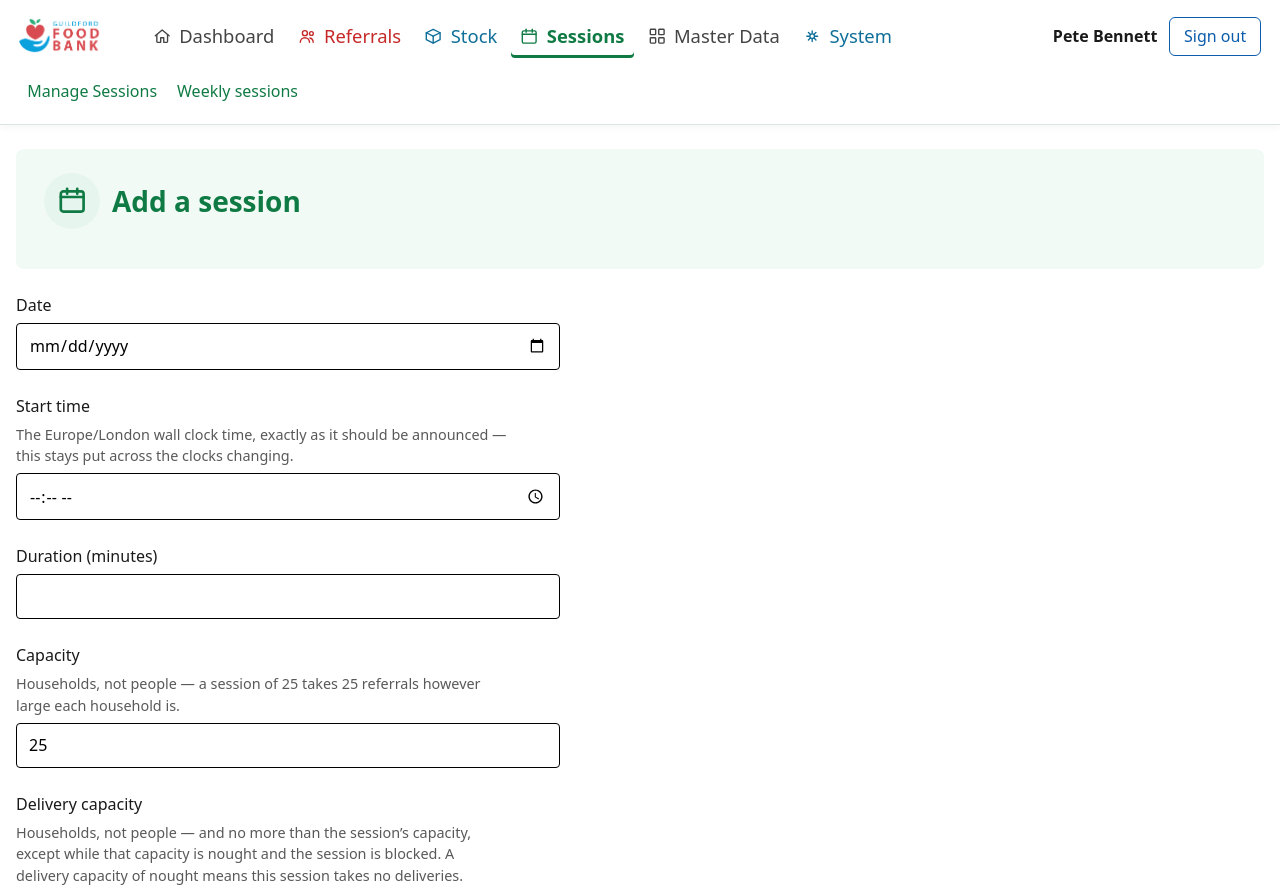
Test: adding an ad hoc session › announces a location refusal instead of storing it against the hidden field
Type "2026-08-04" into the date field labelled "Date".
click(288, 346); type("2026-08-04")  # box [16, 323, 560, 370]
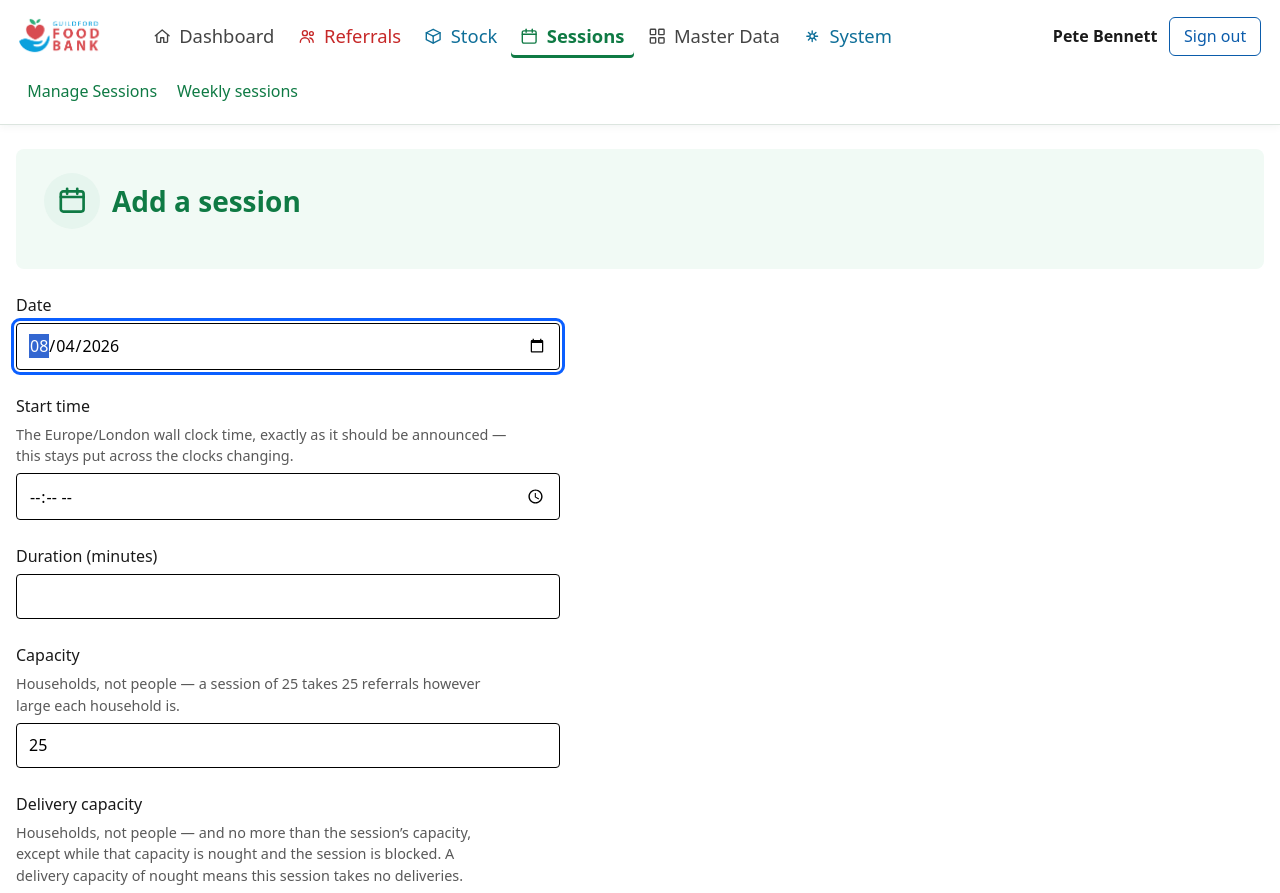
Type "10:00" into the time field labelled "Start time".
click(288, 497); type("10:00")  # box [16, 473, 560, 520]
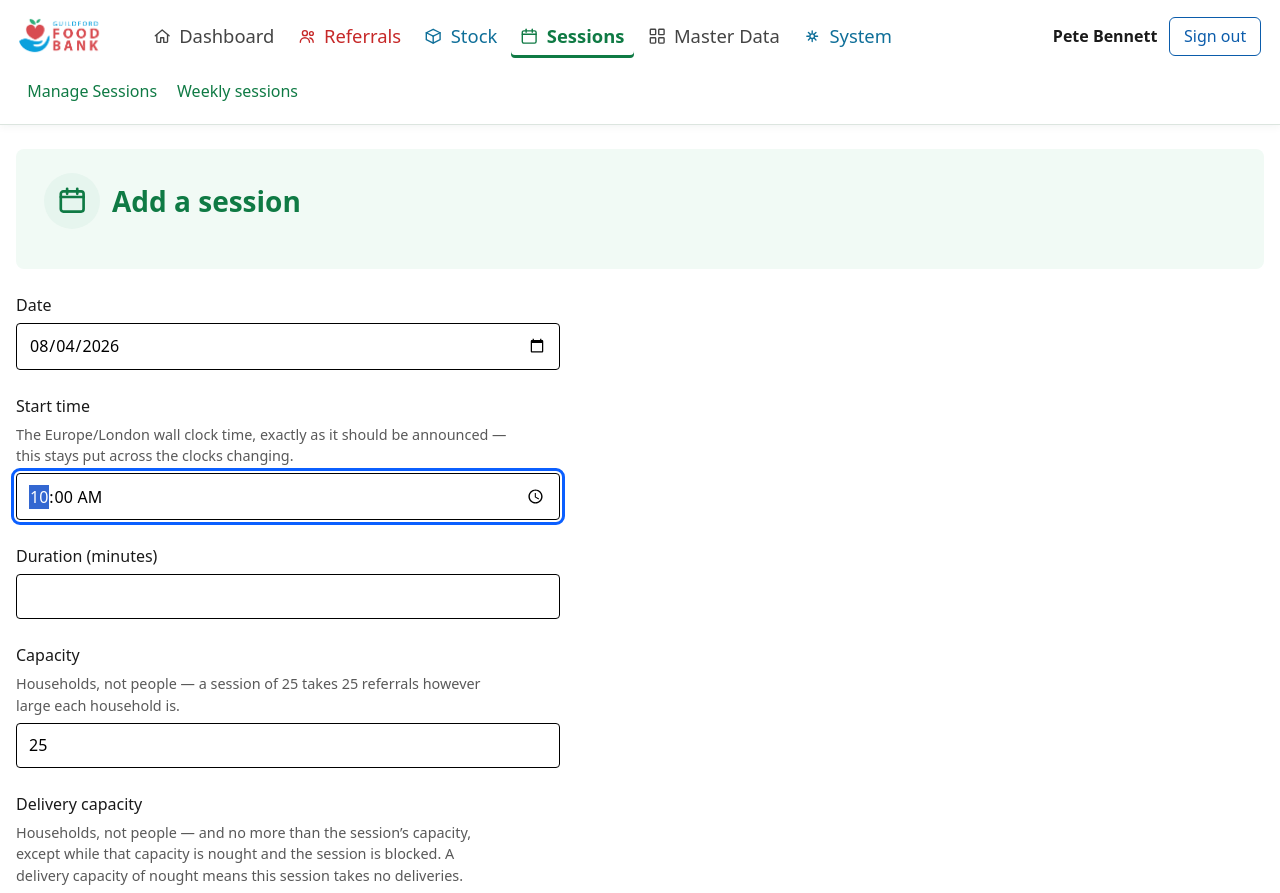
Type "90" into the field labelled "Duration (minutes)".
click(288, 597); type("90")  # box [16, 574, 560, 619]
(page scrolled)
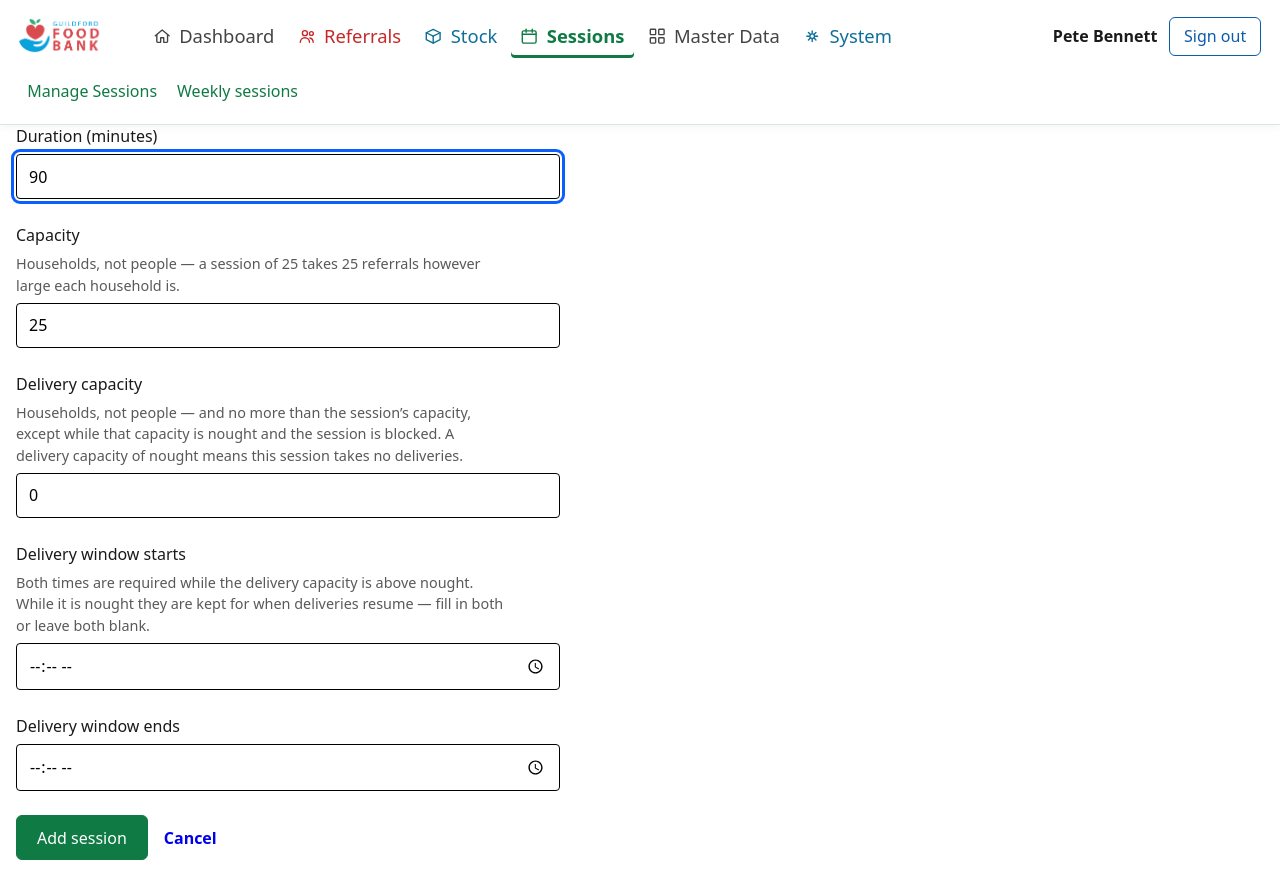
Click the button "Add session".
click(82, 838)  # box [16, 815, 148, 860]
(page scrolled)
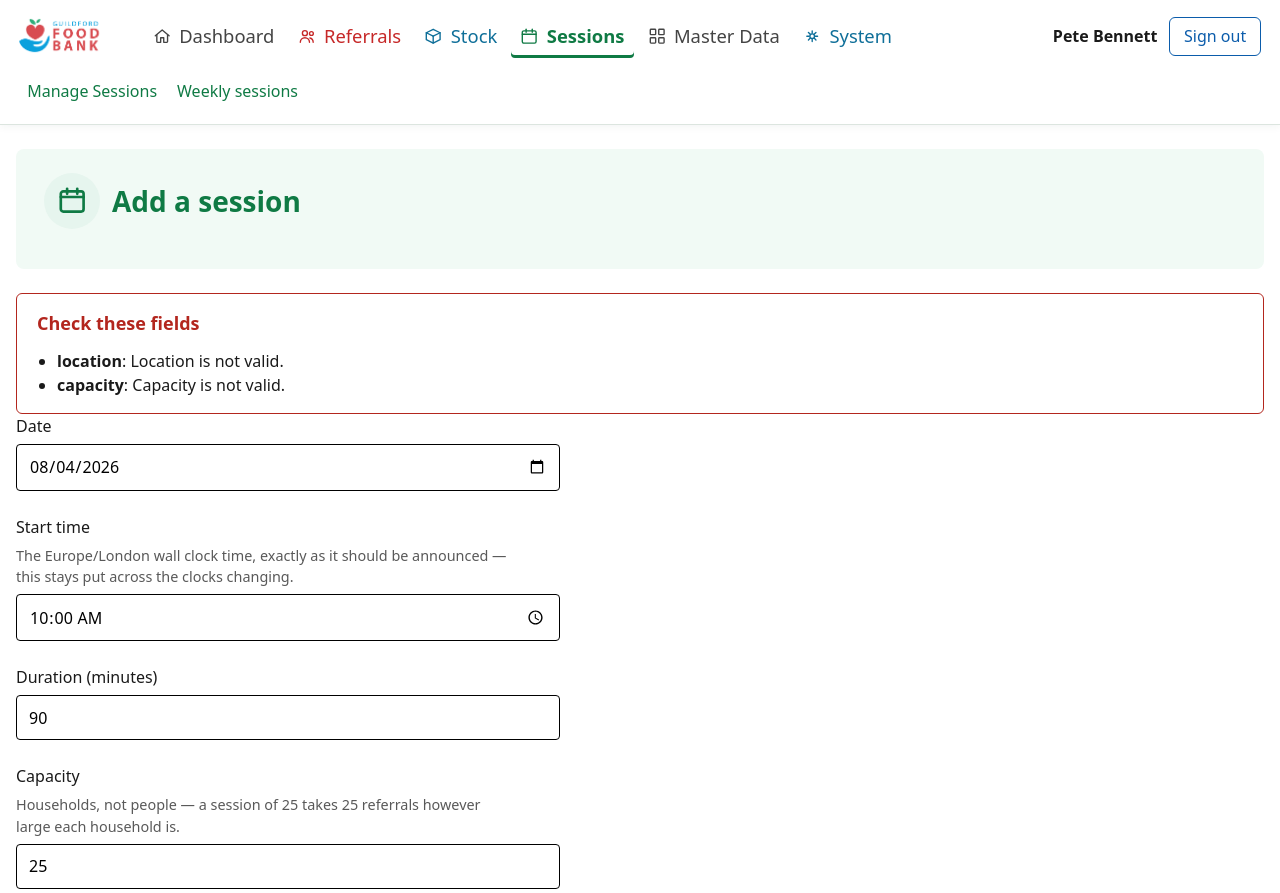
Now the message shows "Location is not valid.", box [130, 350, 284, 372]
